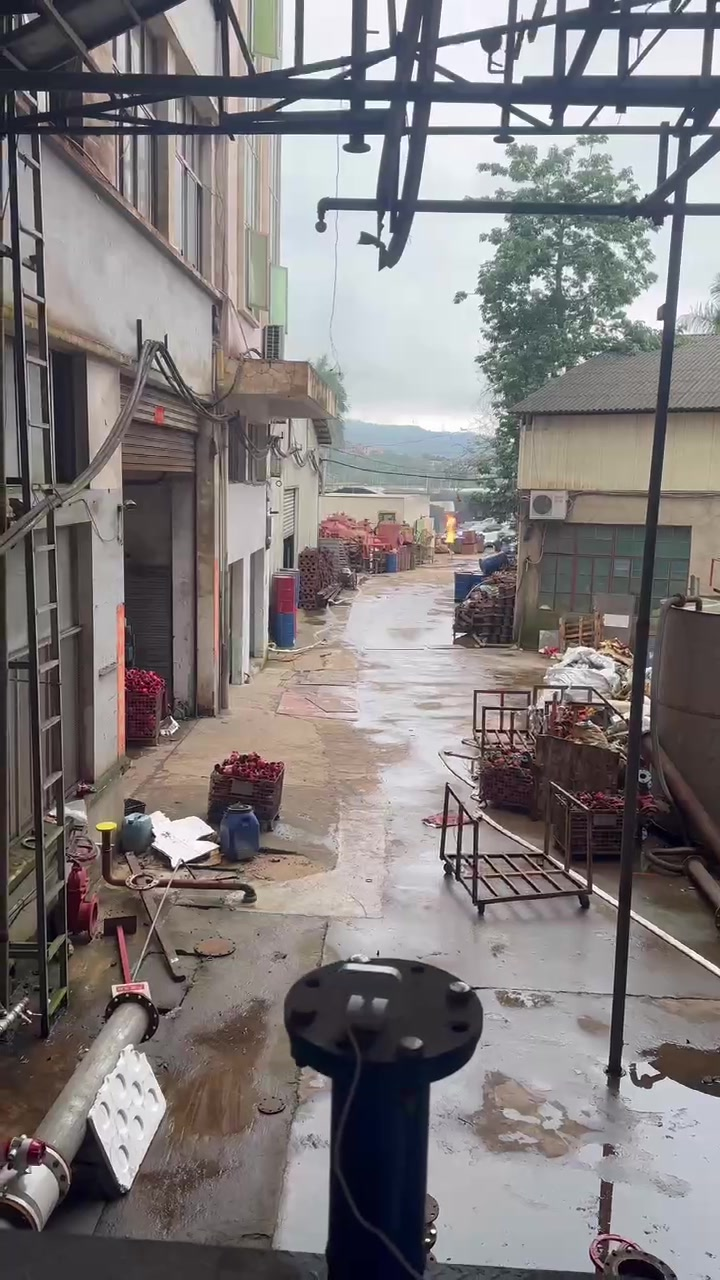fire: (445, 513, 457, 543)
